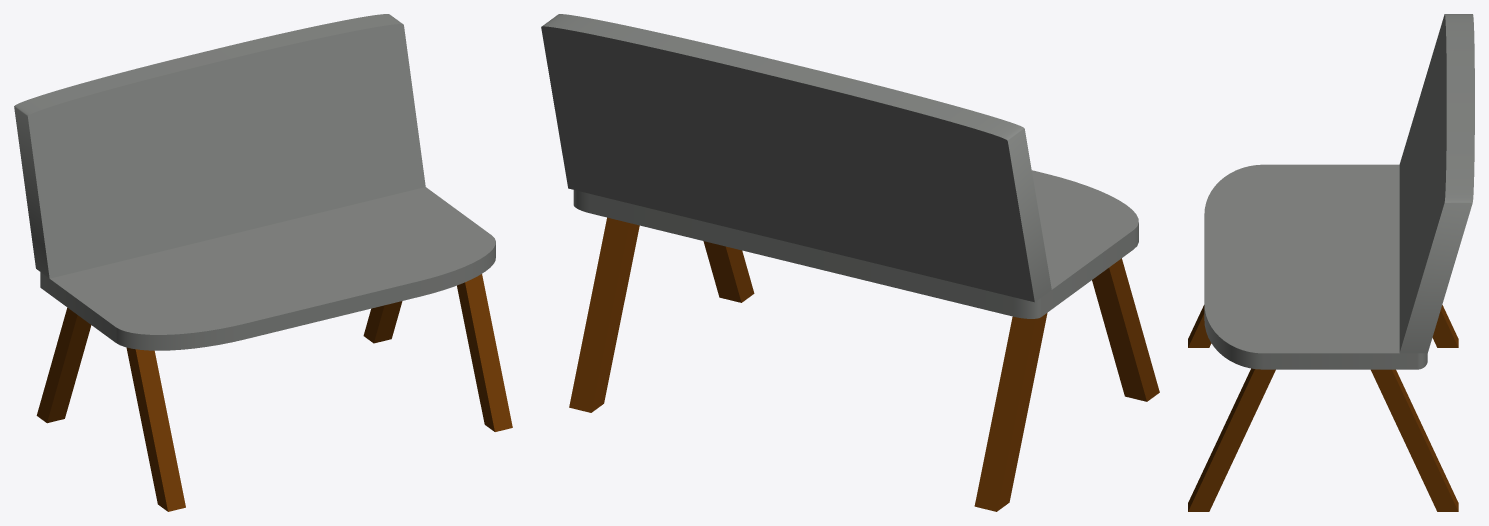
Rendered from Couch.fbx.
3 renders of one model, left to right at view 1: azimuth 30°, elevation 25°; view 2: azimuth 150°, elevation 25°; view 3: azimuth 270°, elevation 25°, orthographic. The views are drawn at different scales.
Visible parts, largest first — view 1: Cube.001, Cube.002; view 2: Cube.001, Cube.002; view 3: Cube.001, Cube.002.
Part boxes in pixels (box(x1,y1,x2,y2)): Cube.001: box(14, 14, 495, 350); Cube.002: box(36, 274, 512, 511); Cube.001: box(541, 14, 1138, 318); Cube.002: box(569, 217, 1159, 511); Cube.001: box(1204, 14, 1474, 369); Cube.002: box(1188, 305, 1458, 511).
Bounding box in the file's own units: 100 × 80.08 × 64.22.
